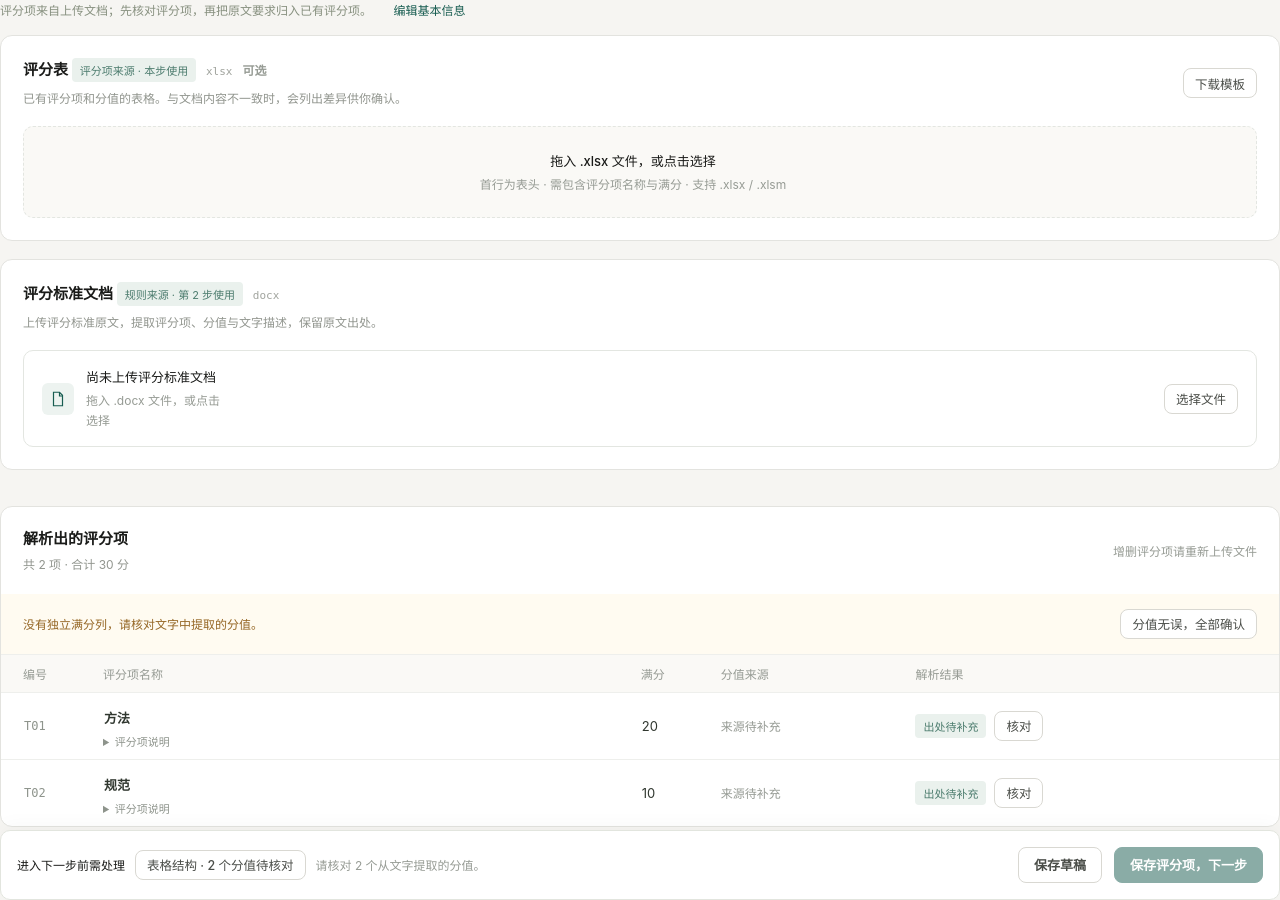
Test: 逐项核对的分值可以取消，取消后重新阻止进入下一步
Click the 1st button "核对" at (1019, 726), box [994, 711, 1044, 741]
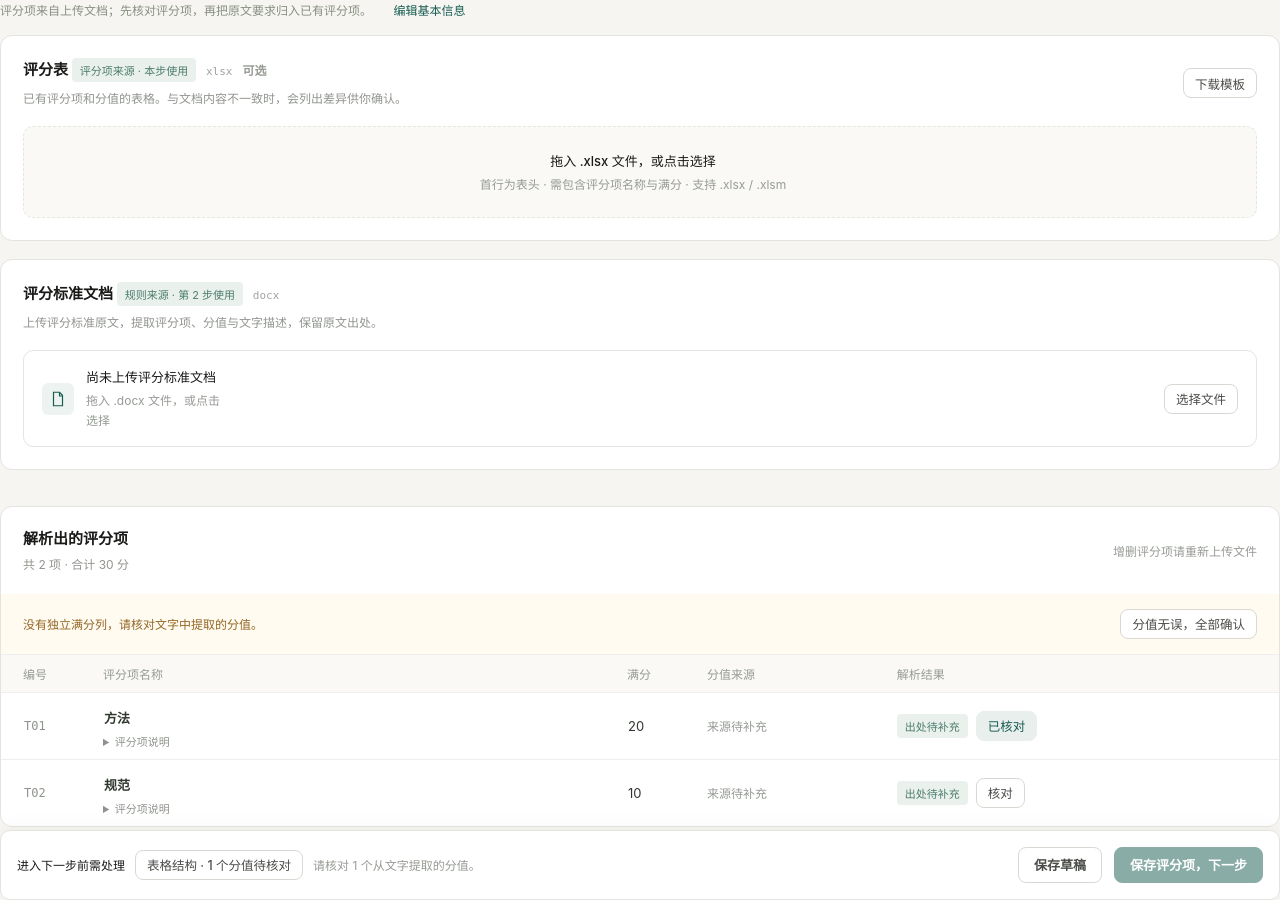
Click the button "核对" at (1000, 793), box [976, 778, 1025, 808]
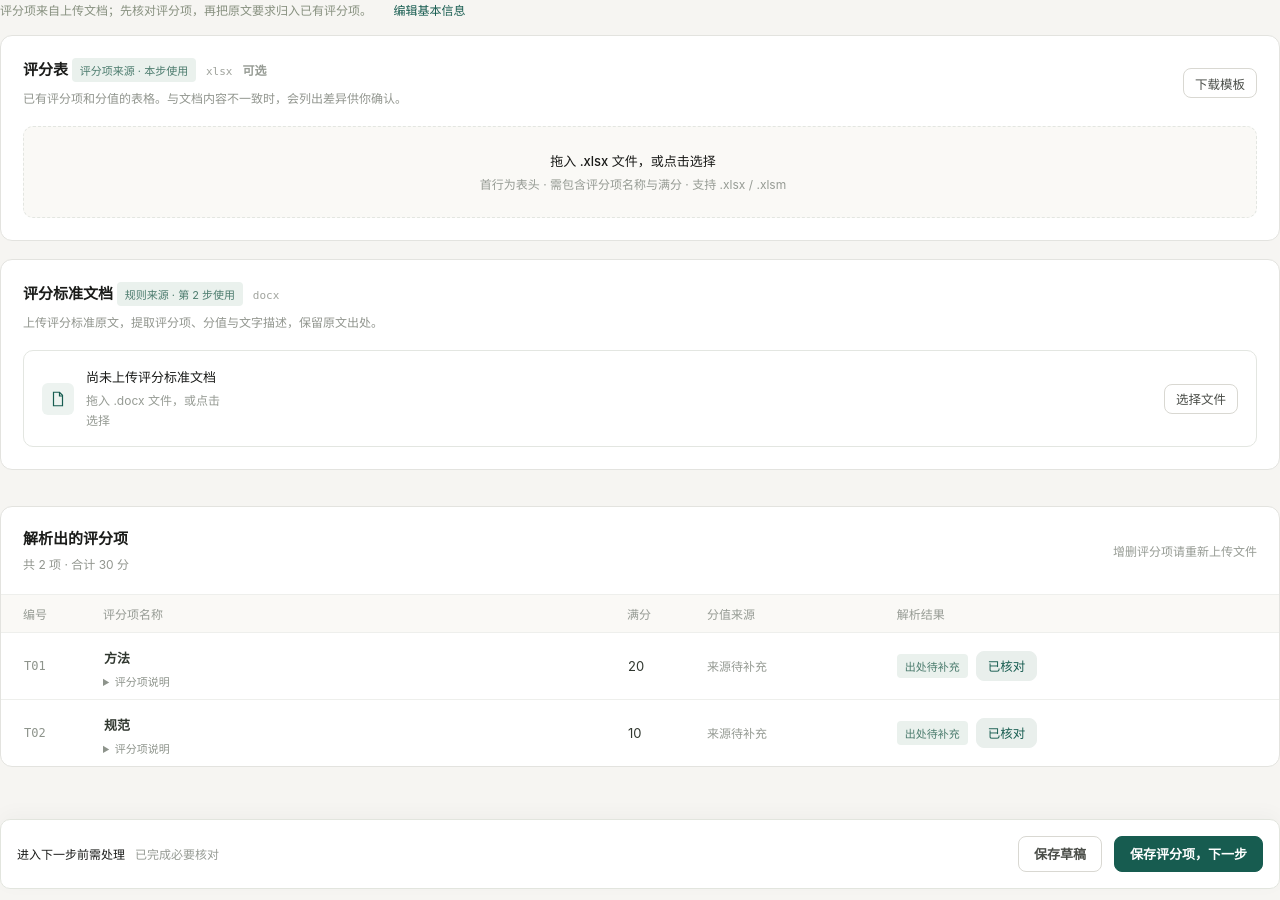
Check: the button "保存评分项，下一步" is enabled, box [1114, 836, 1263, 872]
Click the 1st button "已核对" at (1007, 666), box [976, 651, 1037, 681]
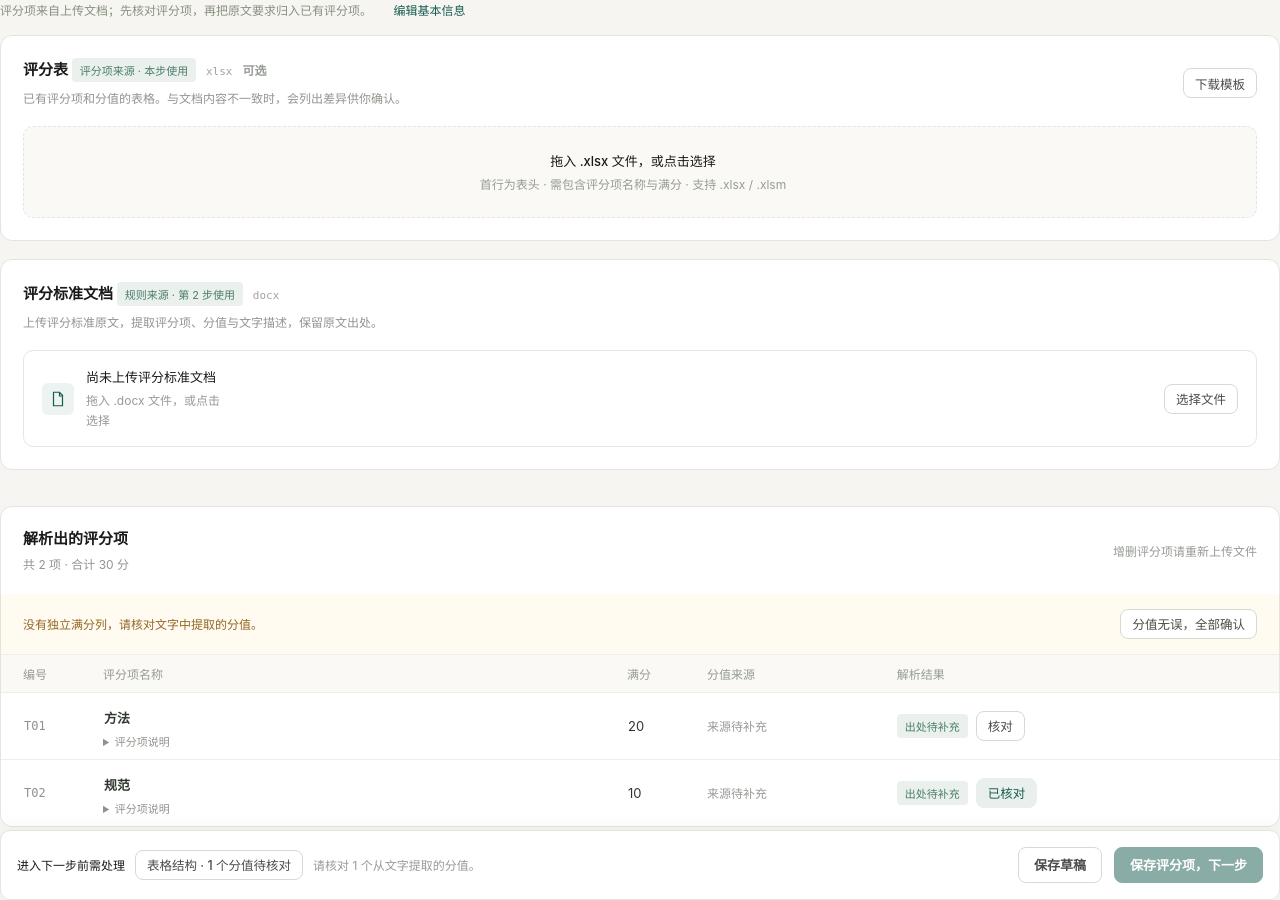
Check: the text "请核对 1 个从文字提取的分值。" is shown, box [313, 856, 481, 874]
Check: the button "保存评分项，下一步" is disabled, box [1114, 847, 1263, 883]
